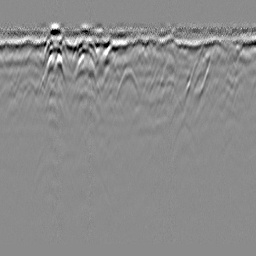cavity: (113, 63, 141, 104)
